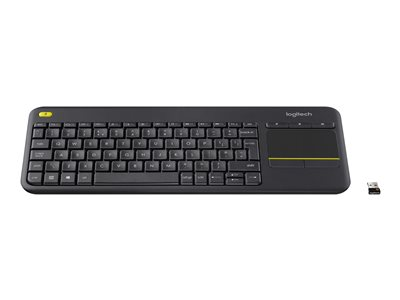logitech-keyboard-k400: (20, 105, 347, 197)
